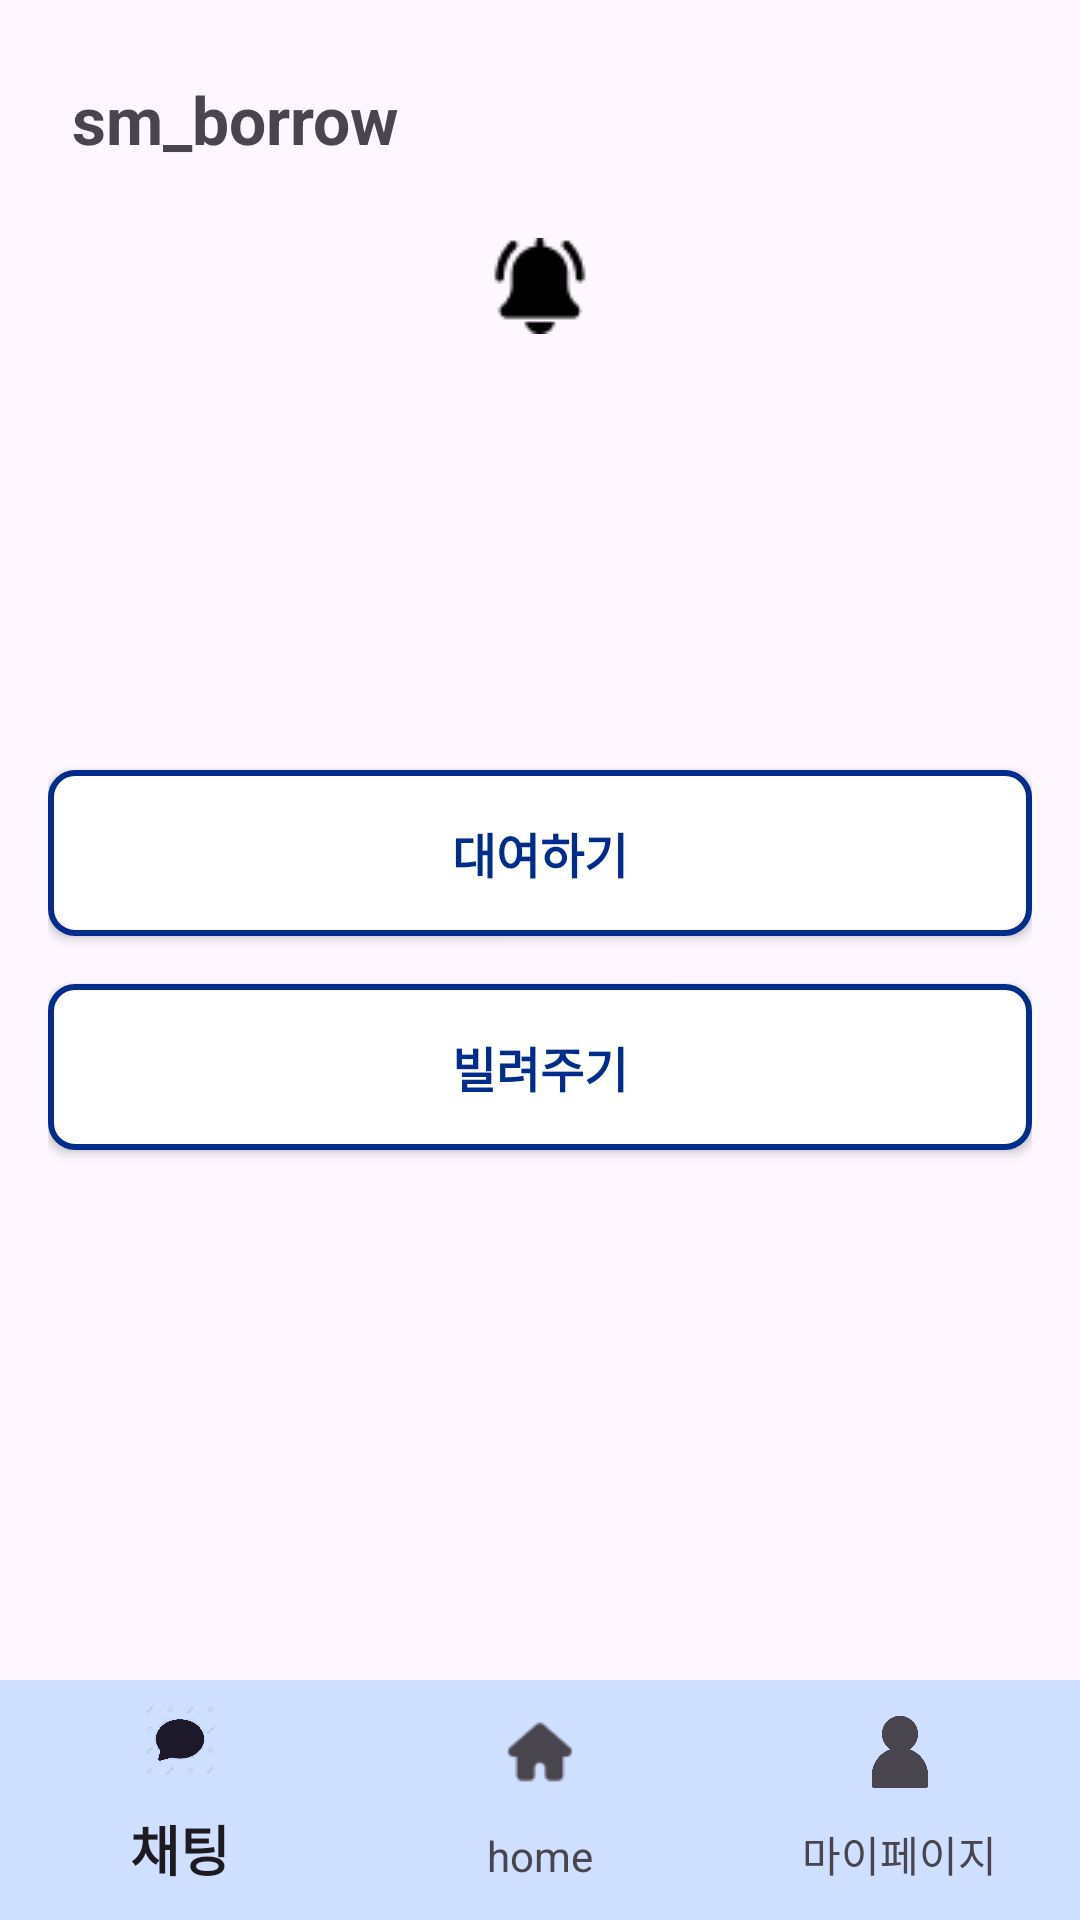

Icons on this 1080*1920 Android screen, each with the point to tap as (x,y):
bell: (540,286)
